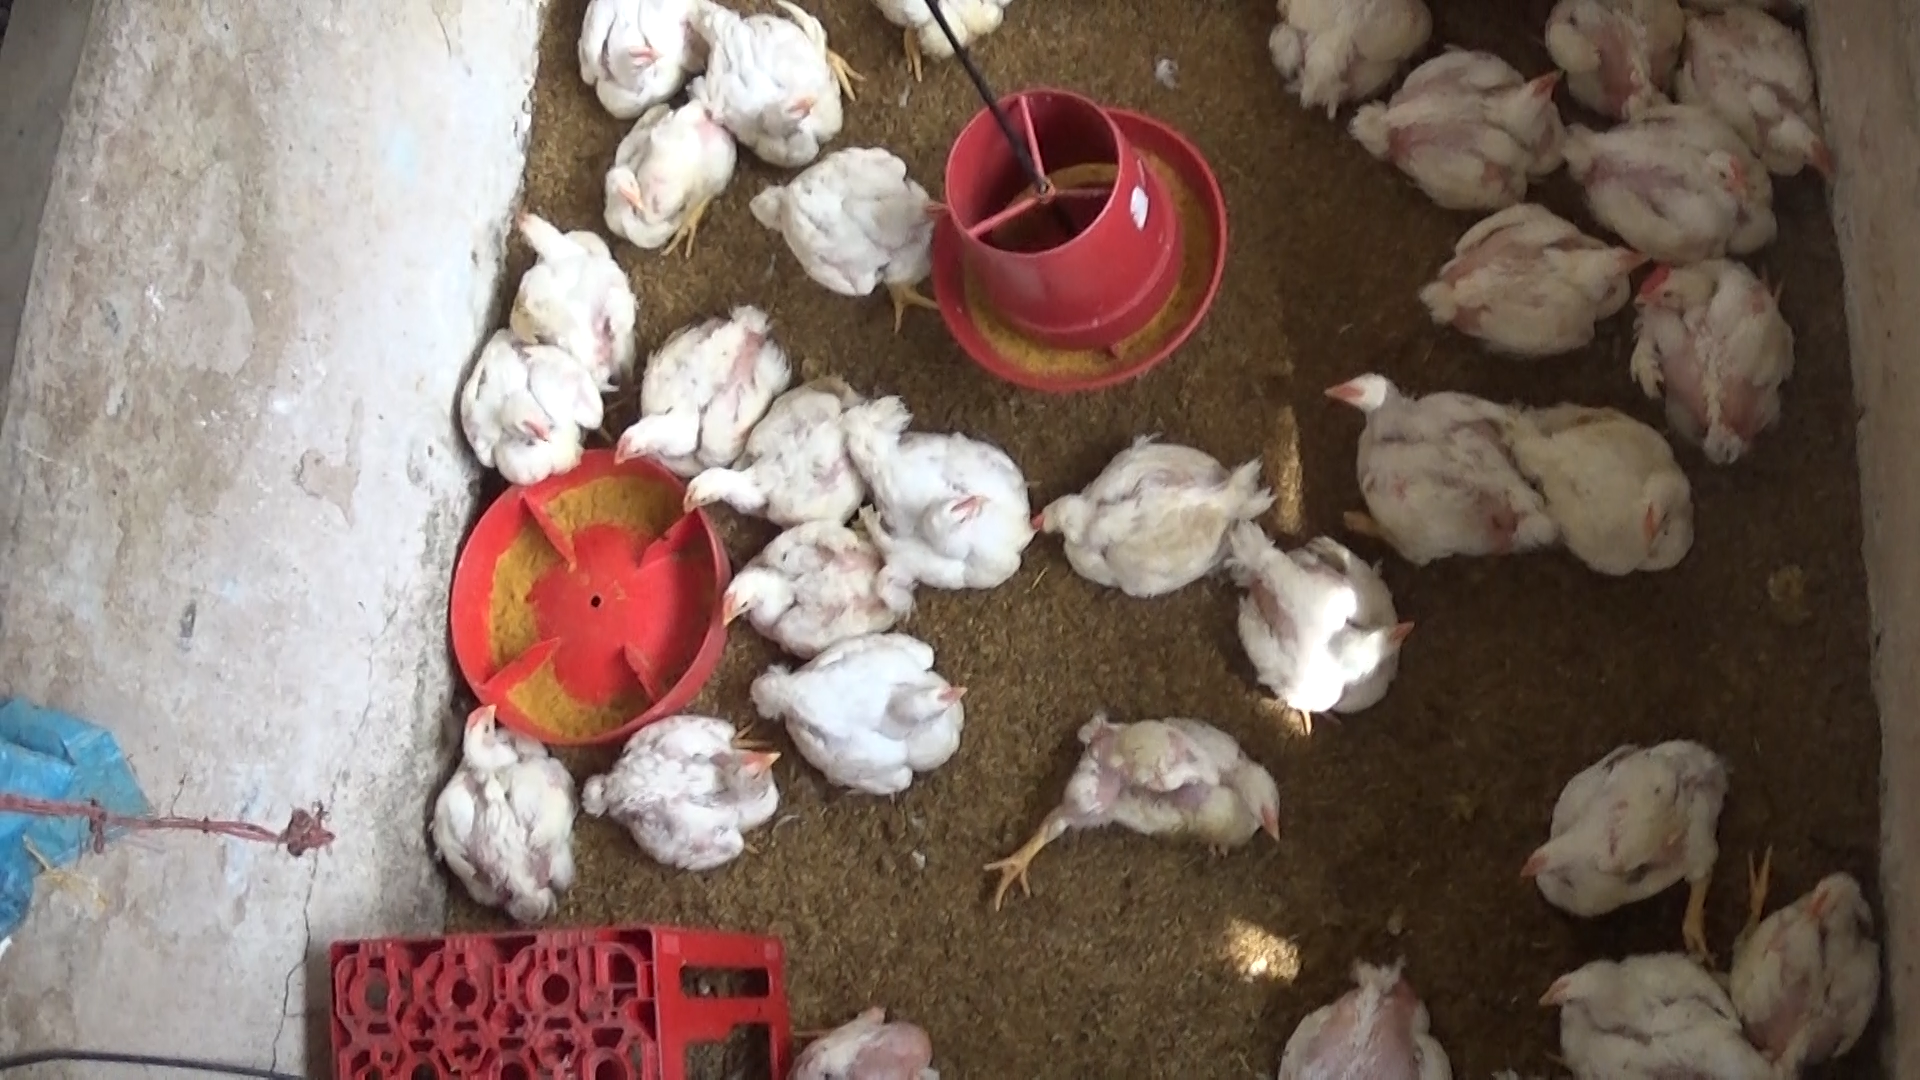Pollos: (978, 702, 1286, 920), (1513, 731, 1735, 967), (1540, 88, 1778, 282), (1327, 361, 1549, 563), (1015, 431, 1276, 603), (736, 626, 972, 808), (1622, 251, 1800, 487), (1228, 512, 1406, 738), (676, 361, 911, 531), (417, 692, 589, 918), (1513, 942, 1791, 1080), (1717, 839, 1884, 1065), (1348, 44, 1576, 207), (1495, 400, 1702, 572), (566, 712, 779, 876), (1425, 203, 1658, 349), (757, 137, 945, 314), (868, 415, 1029, 612), (676, 0, 852, 175), (618, 298, 796, 469), (502, 194, 640, 404), (717, 520, 924, 658), (1685, 12, 1855, 179), (589, 96, 735, 268), (456, 324, 585, 506), (1250, 0, 1431, 123), (1538, 0, 1721, 105), (574, 0, 696, 127)
